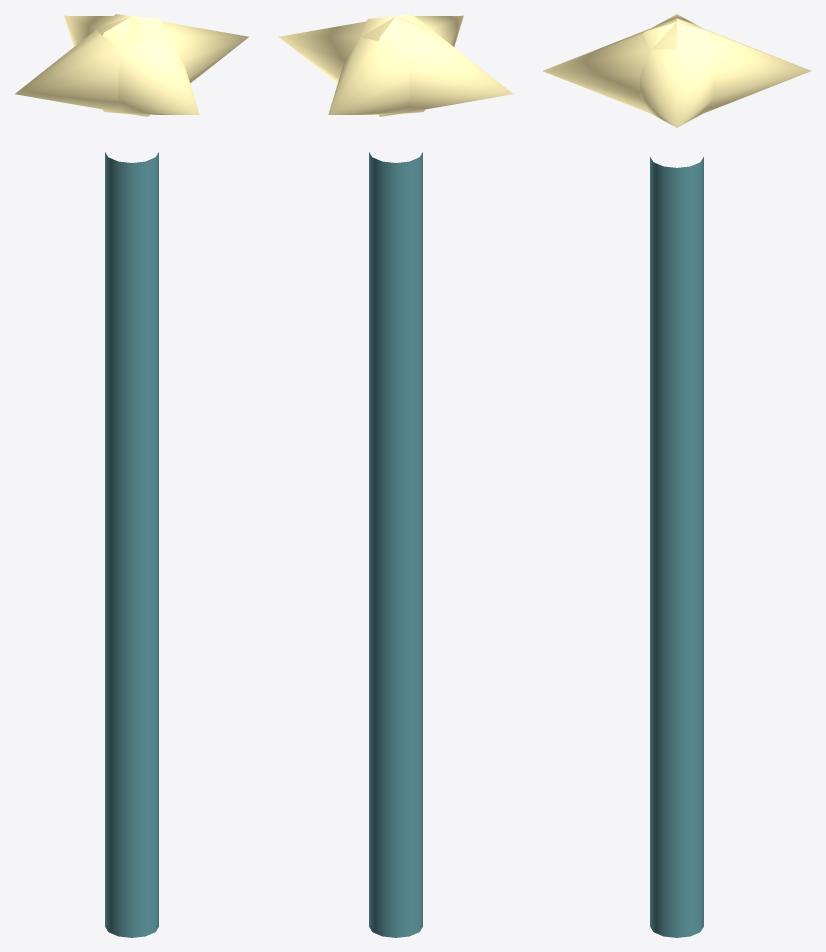
File: luminous_mace.glb
3 renders of one model, left to right at view 1: azimuth 30°, elevation 25°; view 2: azimuth 150°, elevation 25°; view 3: azimuth 270°, elevation 25°, orthographic.
Visible parts, largest first — view 1: Luminous Compact Mace; view 2: Luminous Compact Mace; view 3: Luminous Compact Mace.
Boxes of the visible parts, x1,y1,x2,y2 form: Luminous Compact Mace: (14, 14, 249, 937); Luminous Compact Mace: (278, 14, 513, 937); Luminous Compact Mace: (543, 14, 810, 937).
Bounding box in the file's own units: 0.4 × 1.48 × 0.4.
